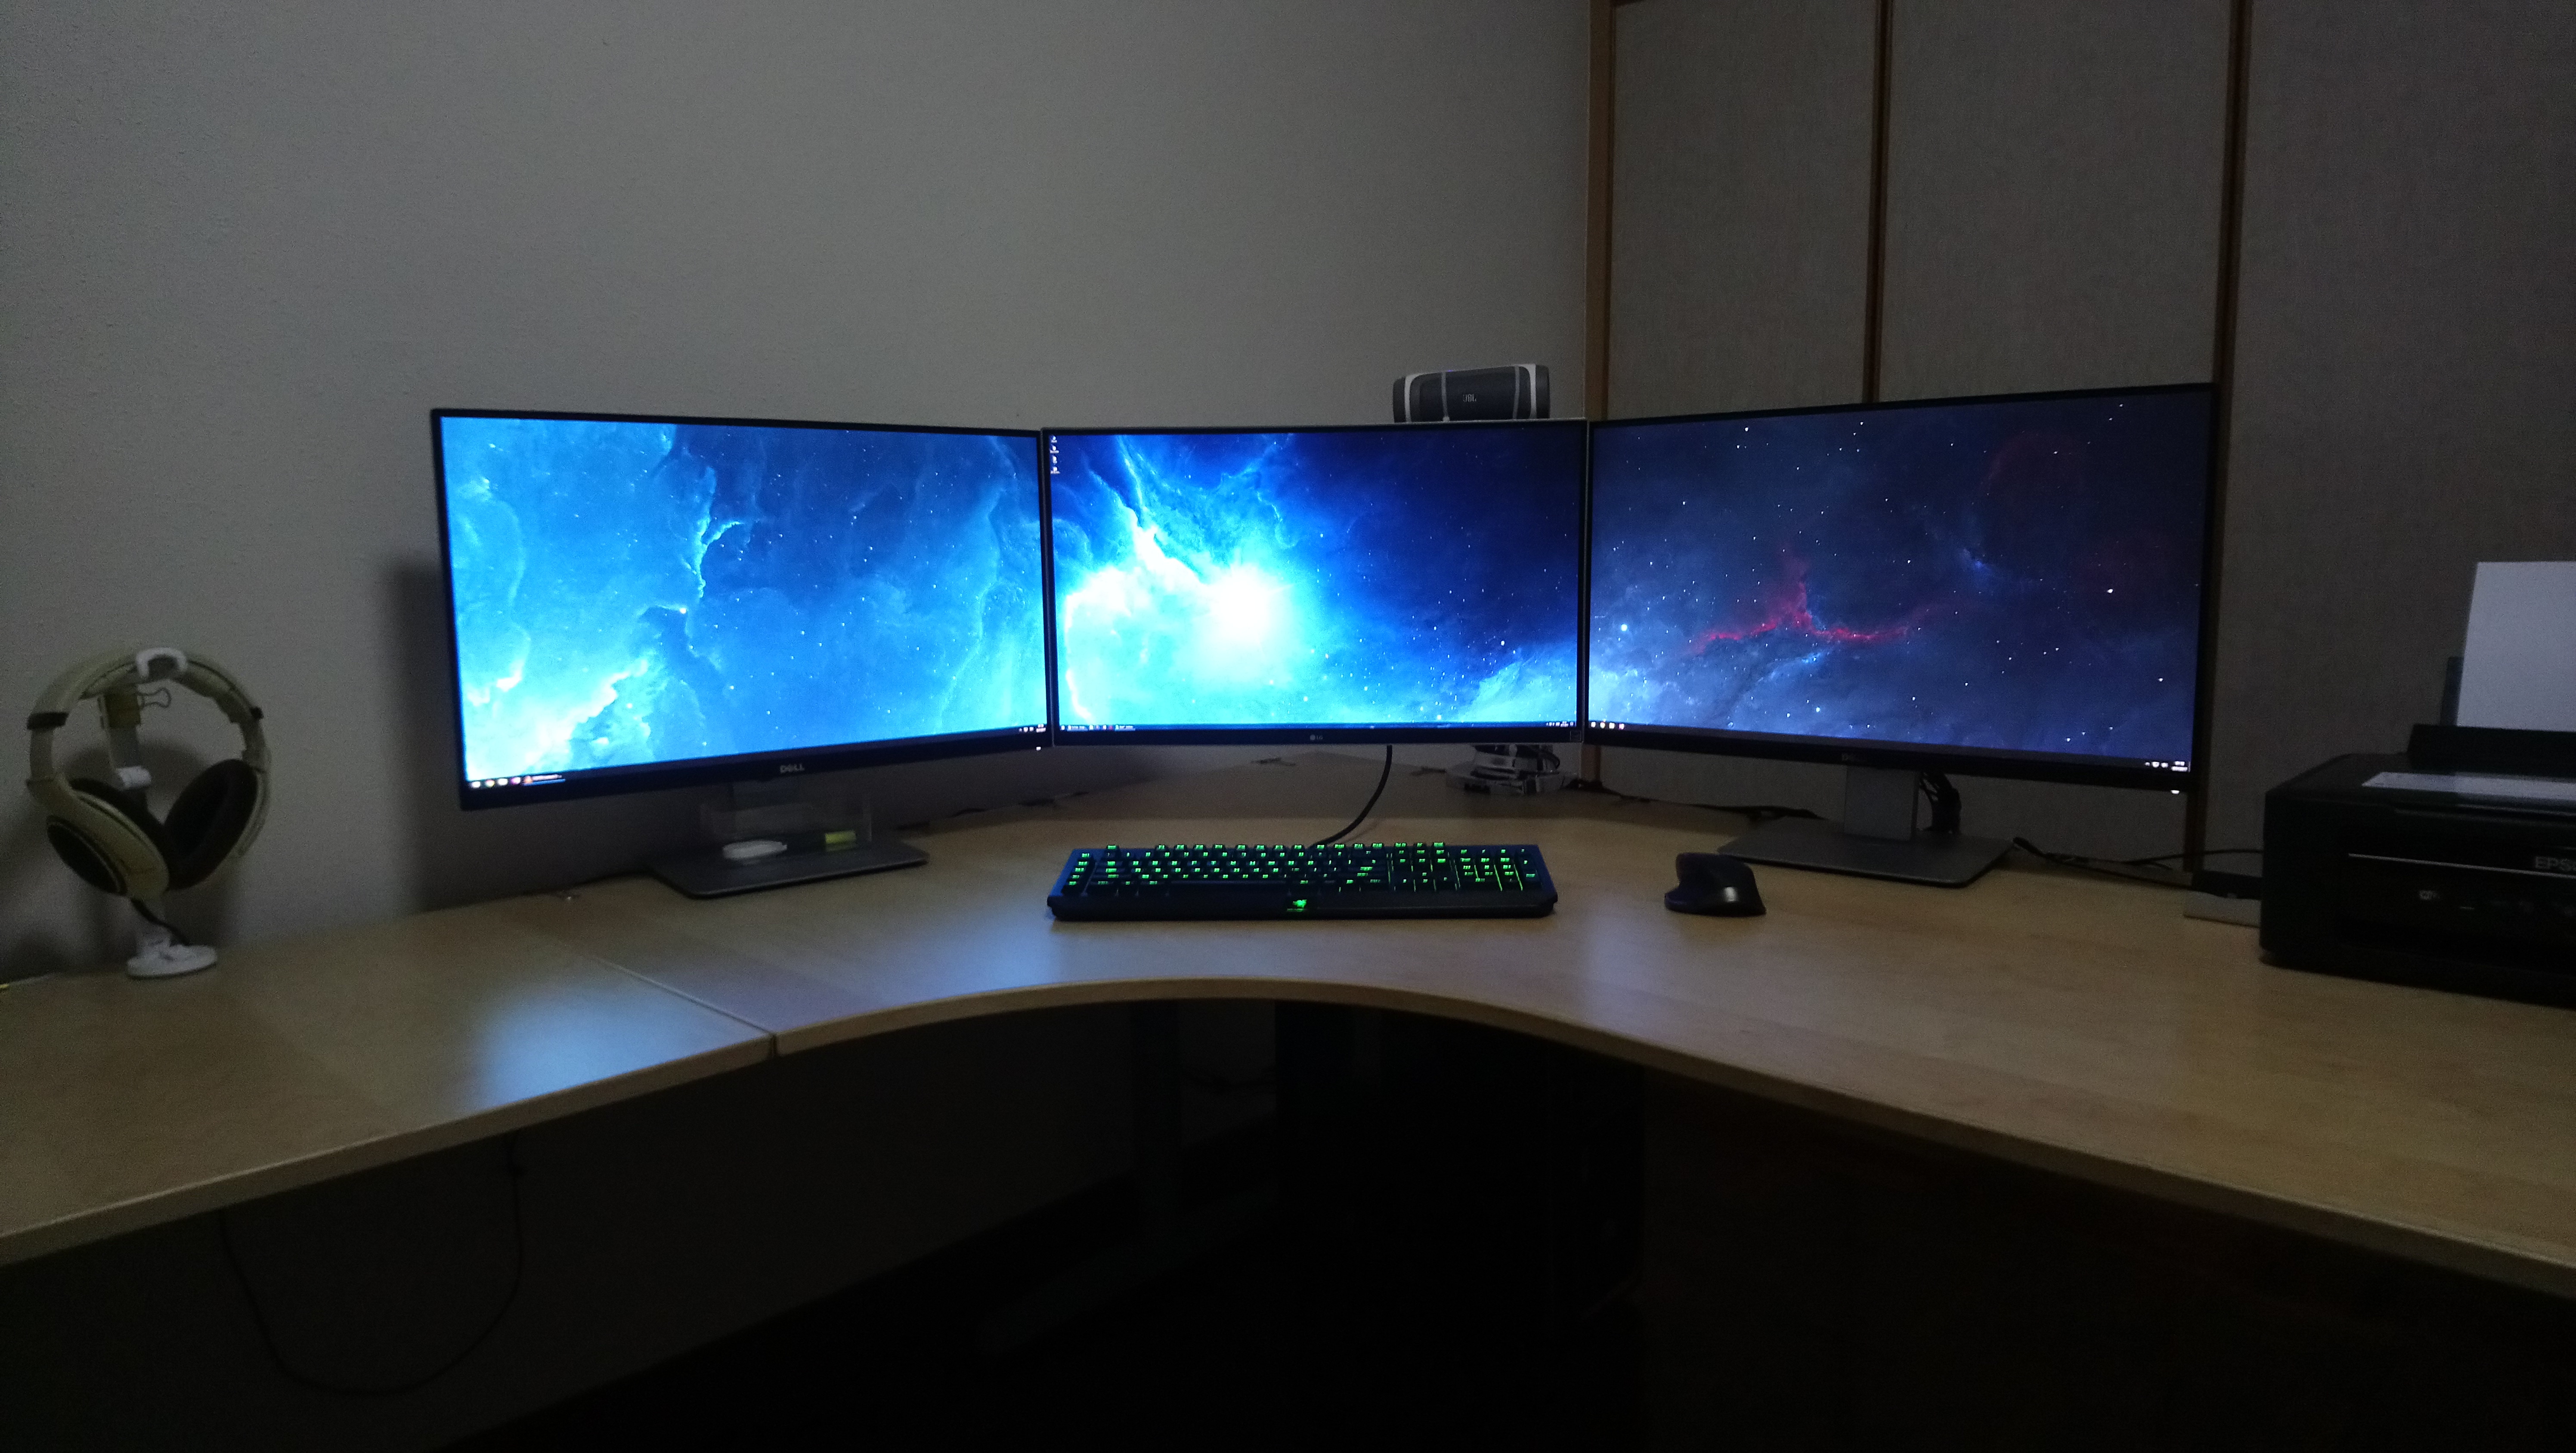Desk (Generic): (0, 749, 2576, 1453)
Desktop (Windows): (1246, 957, 1661, 1324)
External Speakers (Generic): (1387, 359, 1552, 425)
Headphones: (23, 630, 276, 1007)
Keyboard (Gaming): (1053, 823, 1564, 933)
Monitor (Landscape): (1583, 381, 2222, 888), (425, 404, 1054, 913), (1033, 418, 1582, 738)
Mouse (Ergonomic): (1658, 848, 1775, 924)
Printer: (2250, 545, 2576, 1016)
